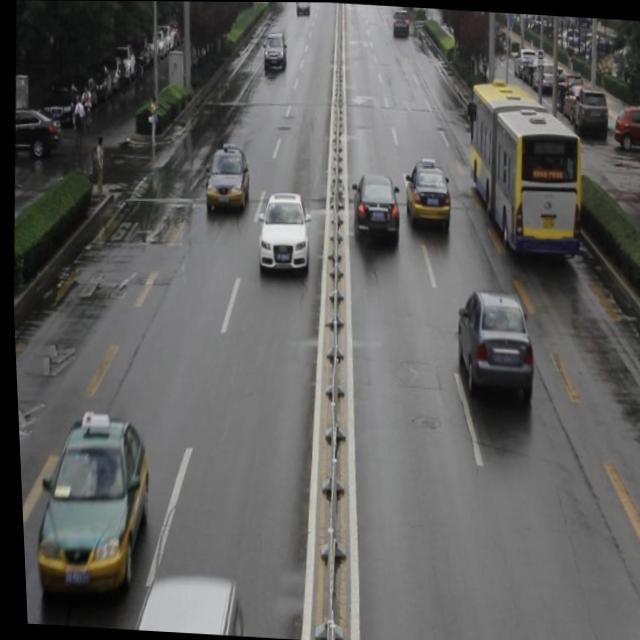car: (26, 407, 151, 599), (449, 285, 532, 405), (250, 189, 312, 277), (347, 171, 400, 250), (401, 157, 450, 232), (202, 144, 250, 212)
truck: (115, 573, 240, 636)
van: (461, 81, 583, 257)
